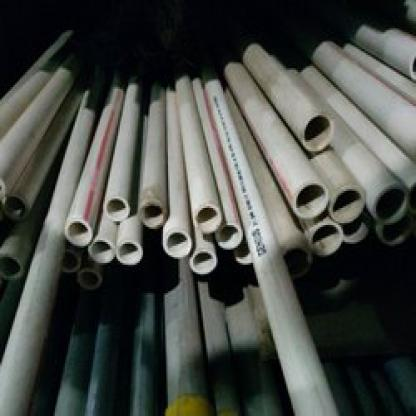PVC: (0, 23, 414, 414), (58, 260, 282, 414)
